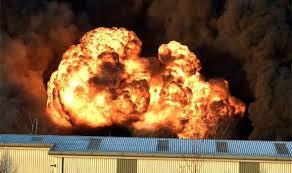fire: (42, 23, 243, 131)
